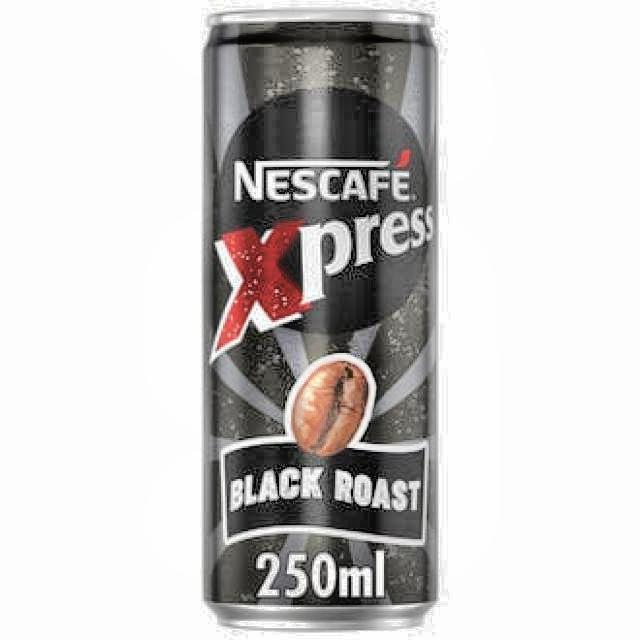metal: (201, 7, 441, 632)
